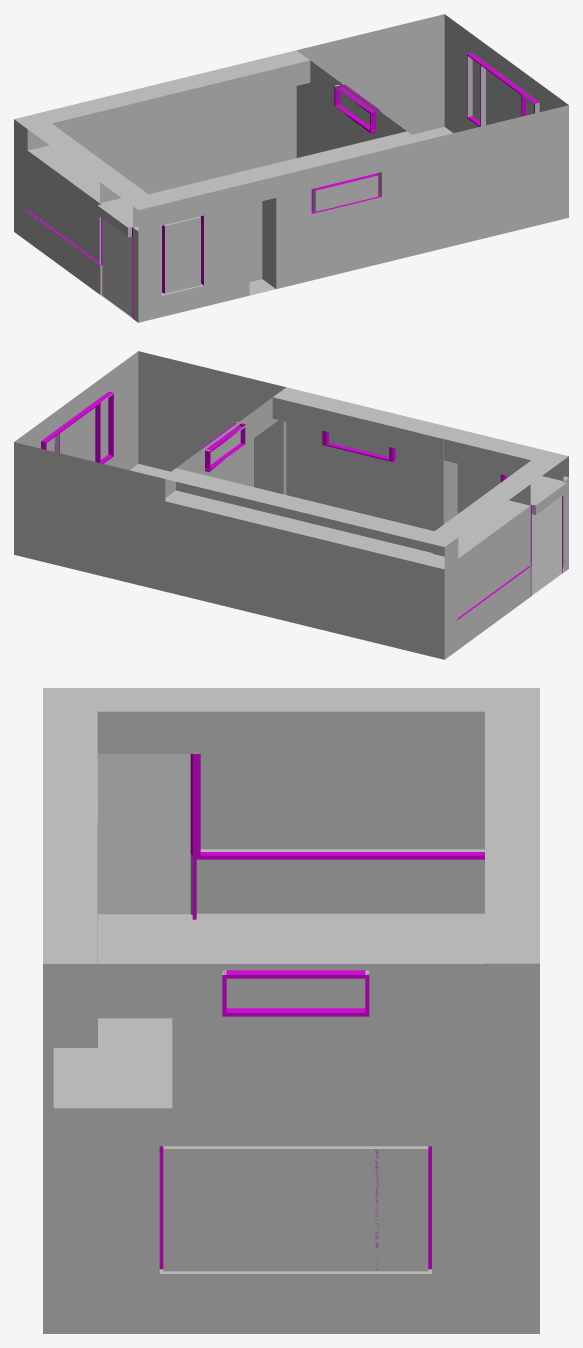
The model's file is oficinaFinalizada2.fbx.
3 renders of one model, top to bottom at view 1: azimuth 30°, elevation 25°; view 2: azimuth 150°, elevation 25°; view 3: azimuth 270°, elevation 25°, orthographic. The views are drawn at different scales.
Parts seen in each view (by area): view 1: Paredes, Vidrios, marcos, Vidriosfrontales, Piso; view 2: Paredes, Vidrios, marcos, Vidriosfrontales; view 3: Paredes, Vidrios, Piso, Vidriosfrontales, marcos.
Part boxes in pixels (x1,y1,x2,y2): Paredes: [14, 14, 568, 322]; Vidrios: [26, 60, 533, 293]; marcos: [26, 53, 539, 317]; Vidriosfrontales: [102, 219, 131, 316]; Piso: [101, 127, 452, 317]; Paredes: [14, 351, 568, 659]; Vidrios: [46, 398, 530, 620]; marcos: [41, 391, 563, 620]; Vidriosfrontales: [531, 496, 561, 594]; Paredes: [43, 688, 539, 1333]; Vidrios: [163, 754, 484, 1271]; Piso: [53, 913, 484, 1108]; Vidriosfrontales: [97, 754, 190, 914]; marcos: [159, 754, 484, 1270].
Bounding box in the file's own units: 1816 × 450 × 900.
